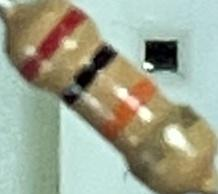Black: (55, 40, 120, 107)
Orange: (98, 76, 160, 143)
Red: (16, 2, 91, 89)
Side-Silver: (128, 102, 203, 183)
